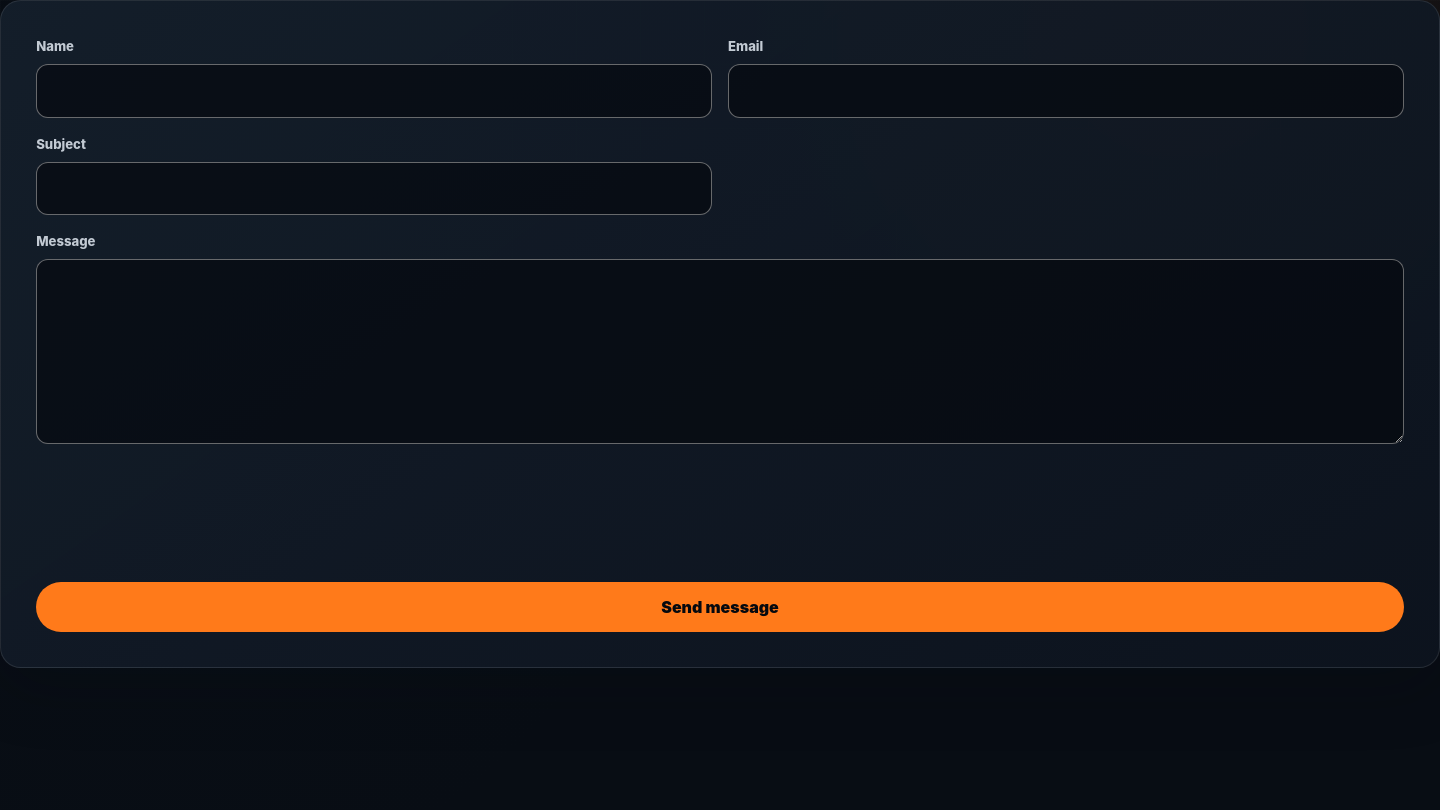
Test: ContactForm › preserves entered values after a provider failure
The image size is (1440, 810).
Type "Mike Visitor" into the field labelled "Name". click: x=374, y=91
box: [36,64,712,118]
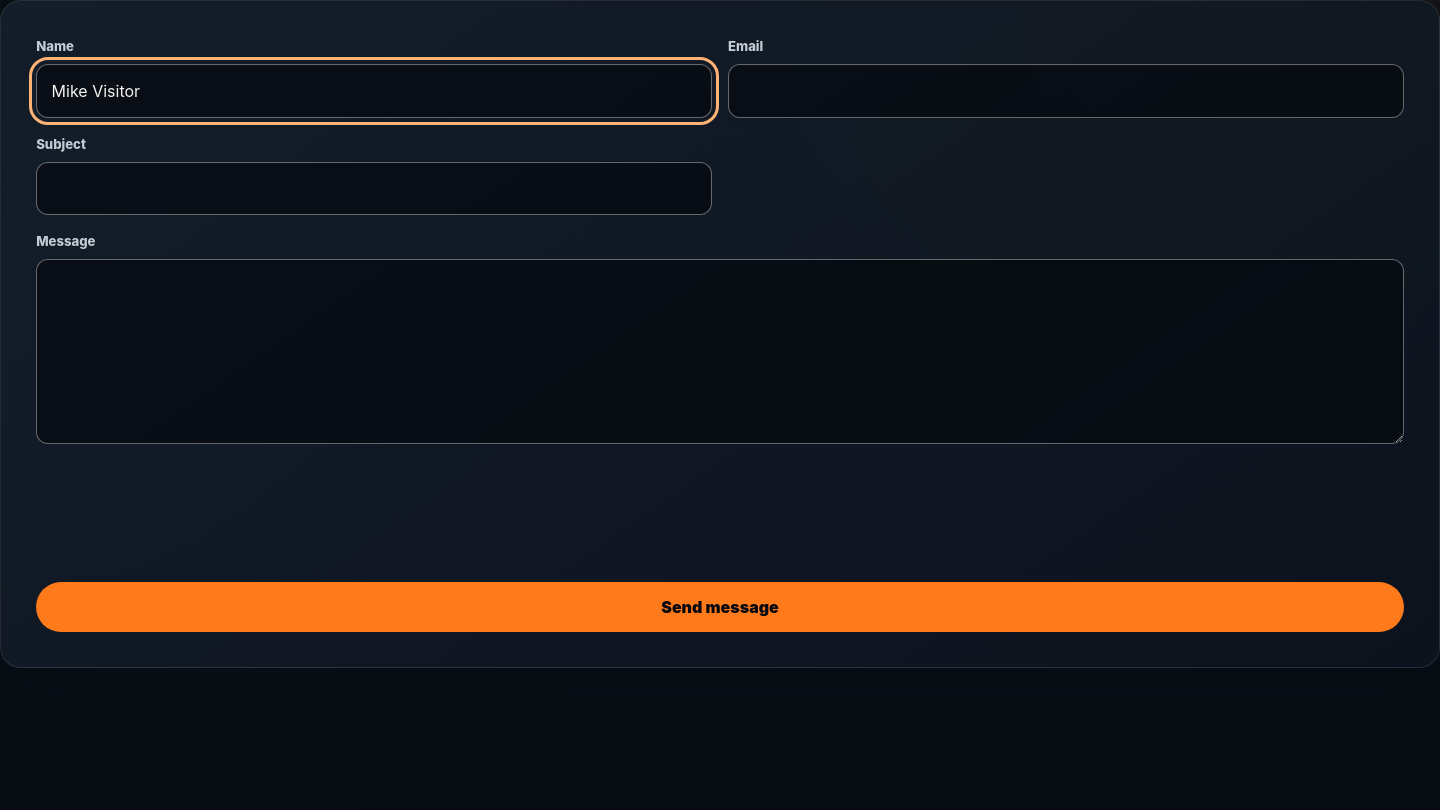
Type "visitor@example.test" into the field labelled "Email". click: x=1066, y=91
box: [728,64,1404,118]
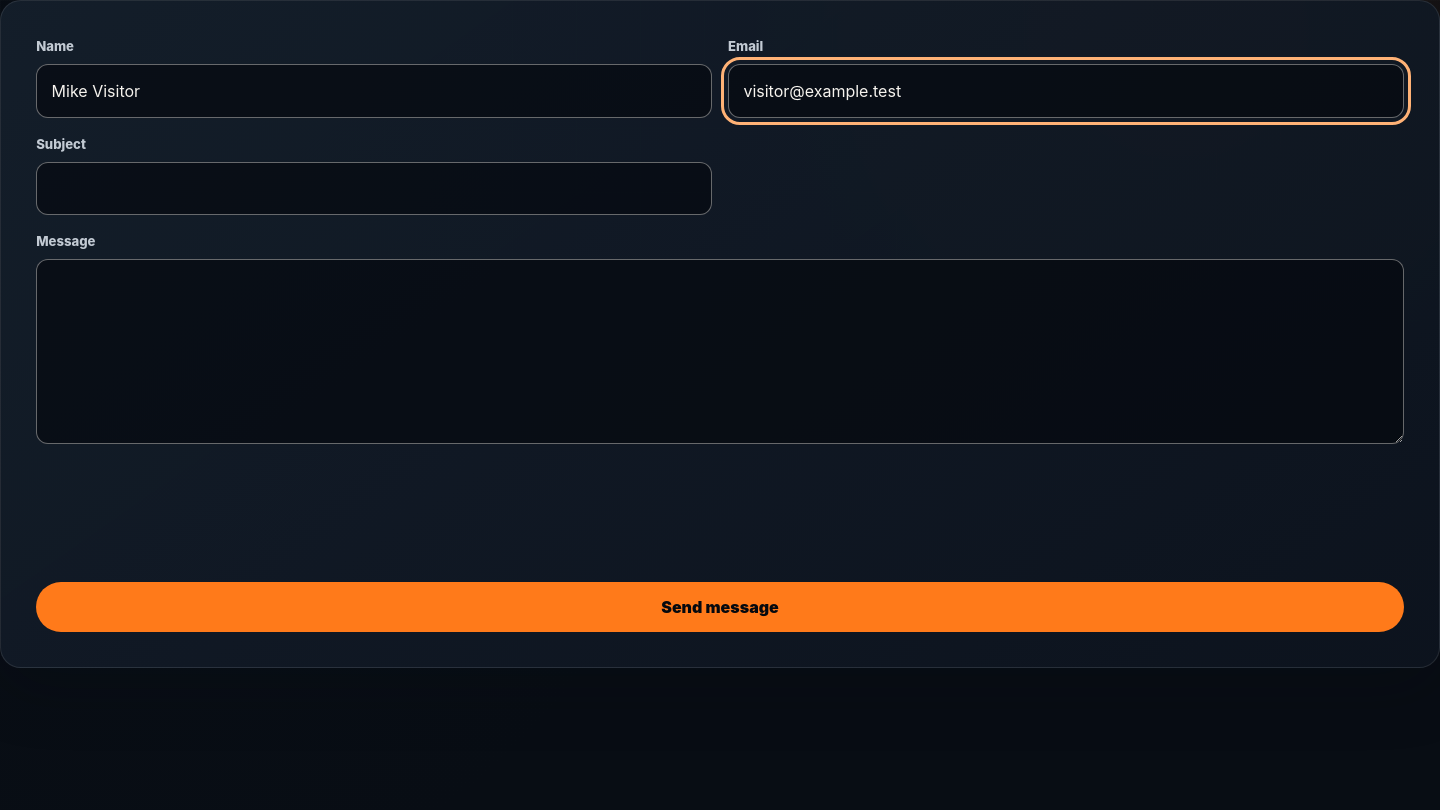
Type "AI engineering opportunity" into the field labelled "Subject". click: x=374, y=188
box: [36,162,712,215]
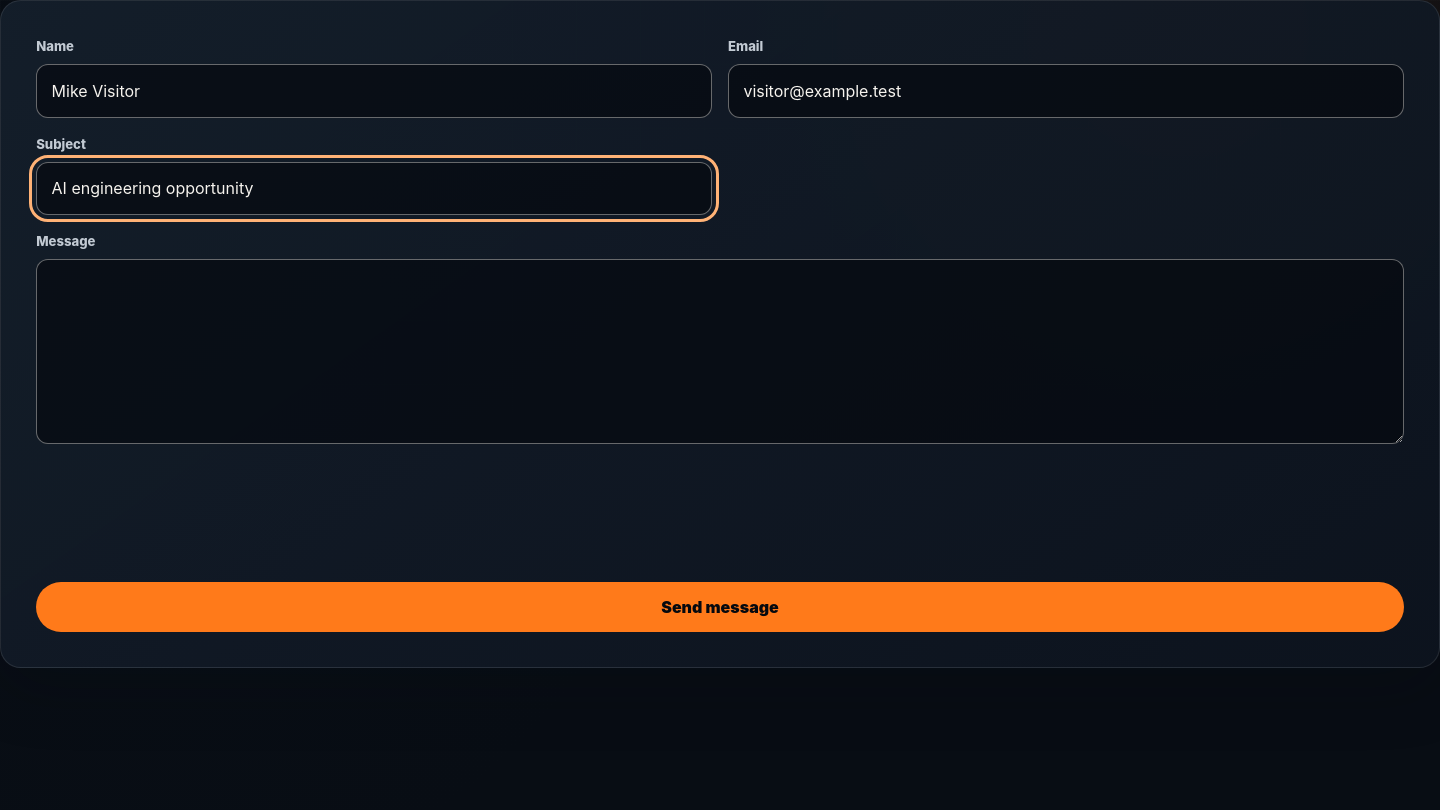
Type "I would like to discuss a relevant AI engineering opportunity." into the text box labelled "Message". click: x=720, y=352
box: [36,259,1404,444]
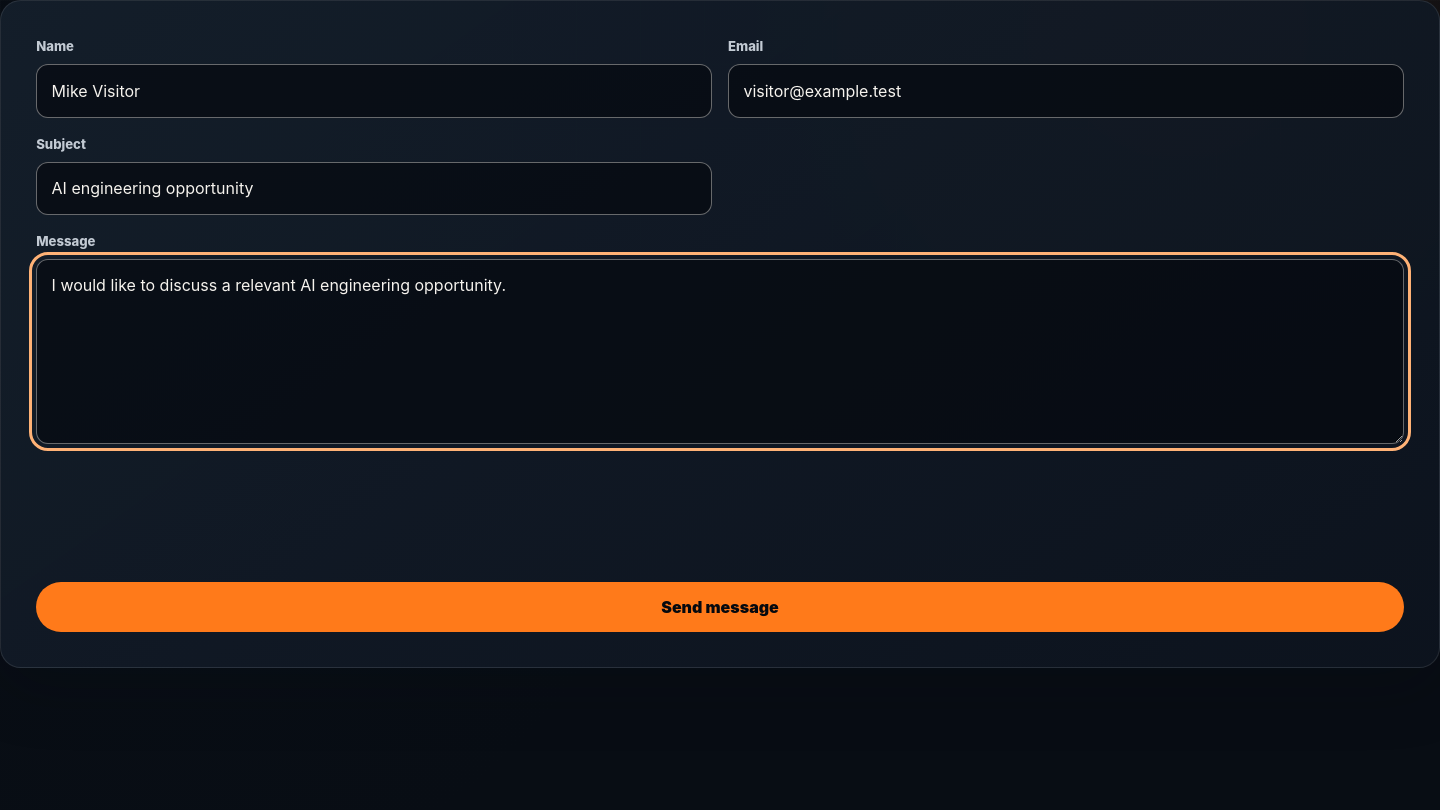
Click the button "Send message". click: x=720, y=607
box: [36,582,1404,632]
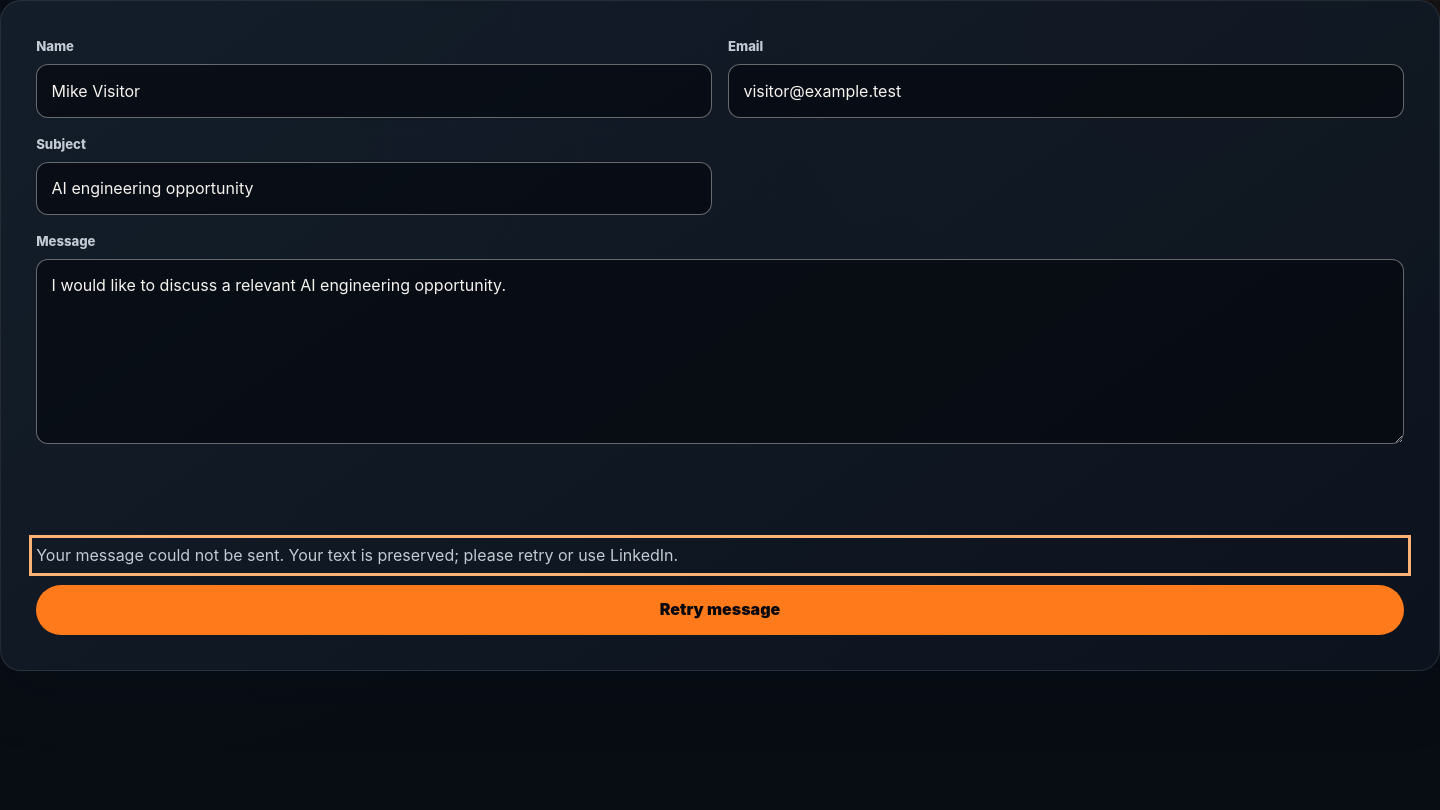
Result: the text "could not be sent" is shown at [36,545,678,565]
